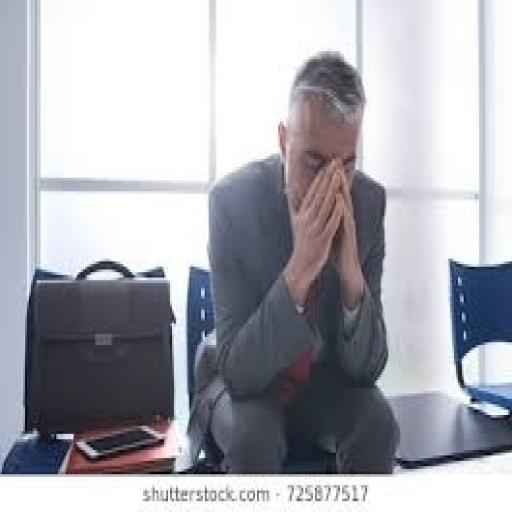sitting: (185, 46, 400, 472)
